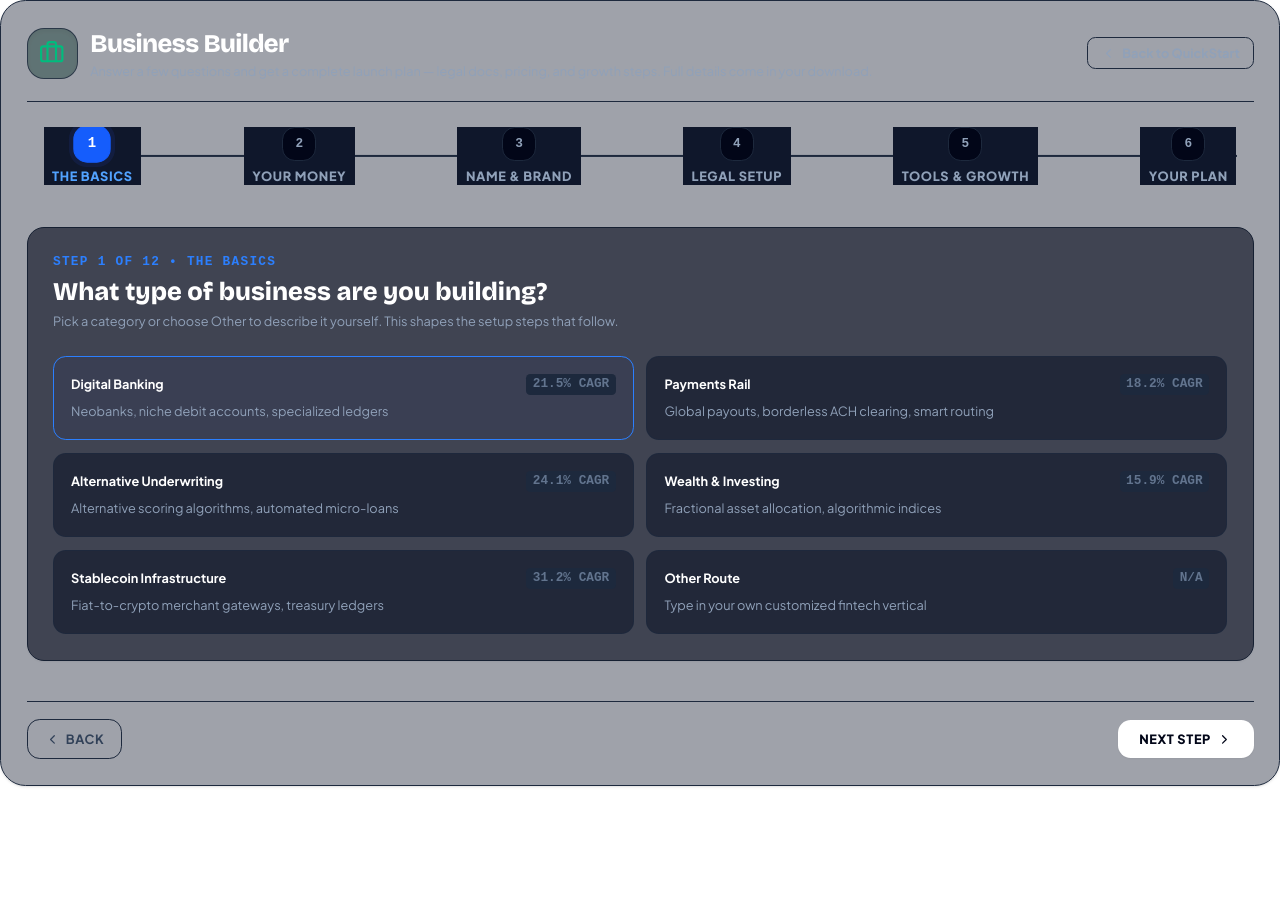
Test: FintechBusinessBuilder › navigates back with Back button
Click the button "Next Step" at [1186, 739], box [1118,720,1254,758]
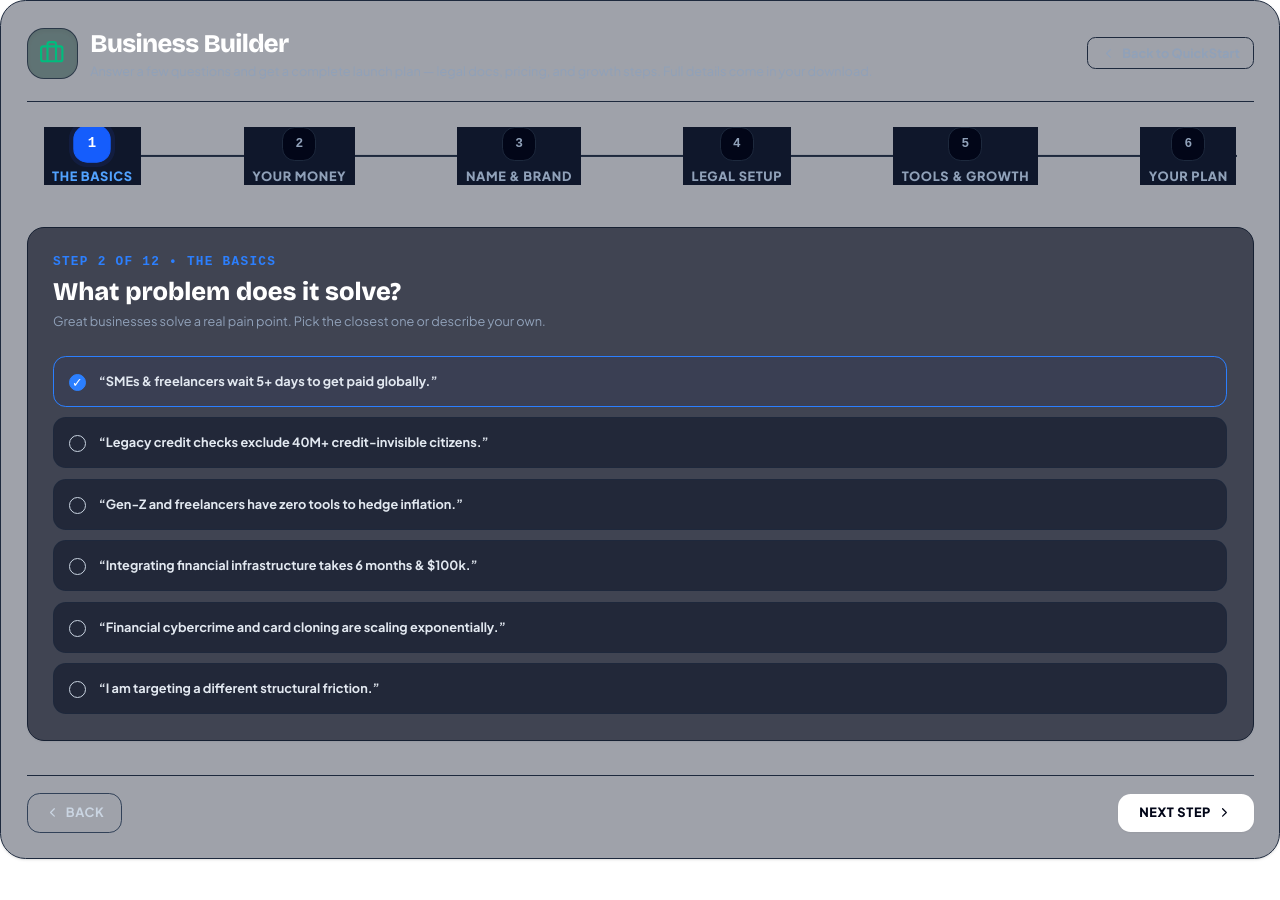
Now the heading "What problem does it solve?" is shown, box [53,276,401,307]
Click the button "Back" at [74, 813], box [26,792,122,833]
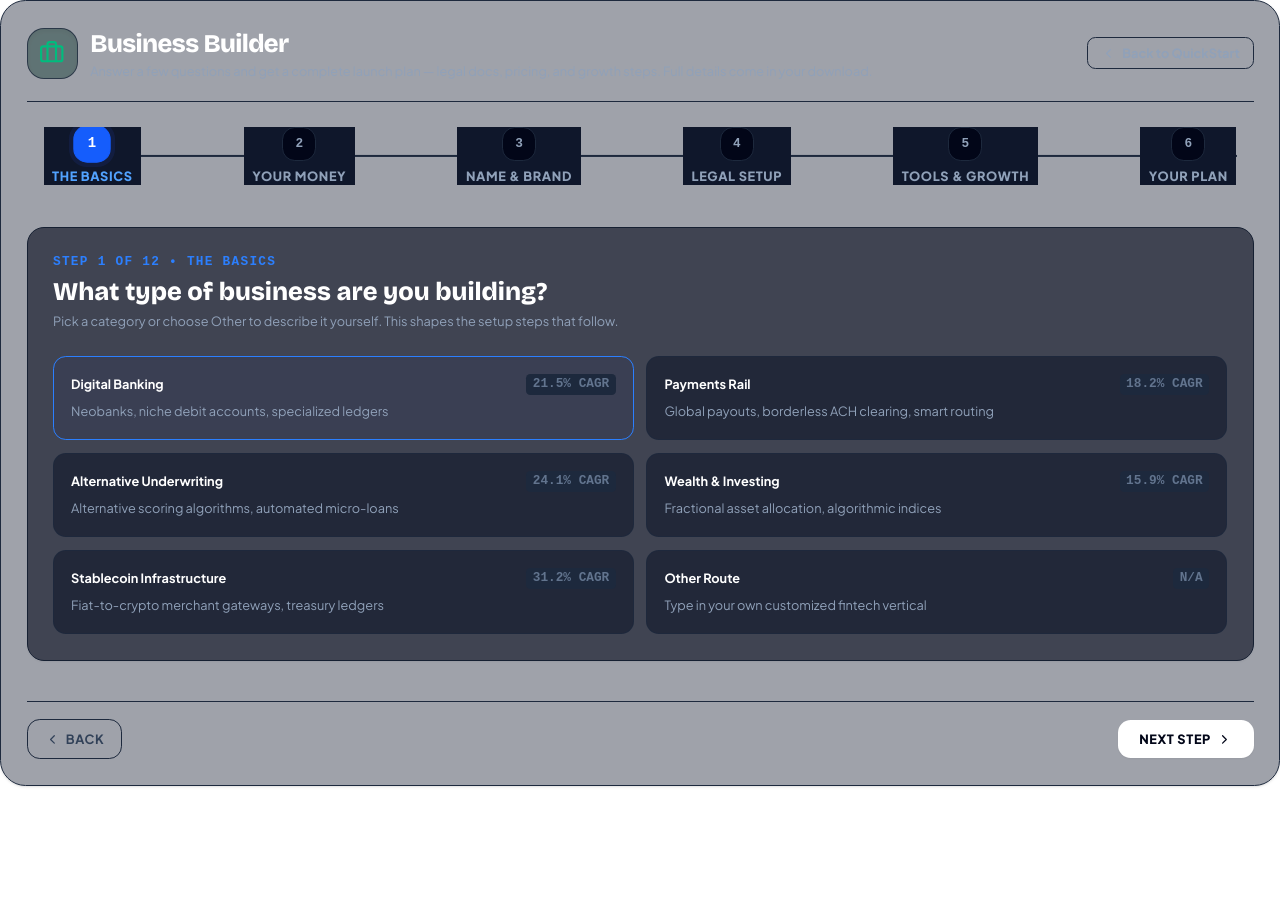
Now the heading "What type of business are you building?" is shown, box [53,276,547,307]
